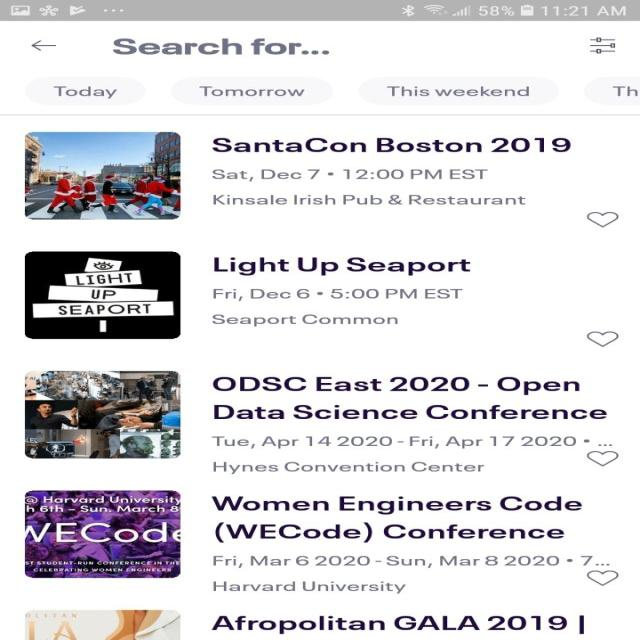Icon: (585, 450, 618, 467), (586, 211, 618, 228), (586, 569, 618, 586), (586, 331, 618, 347), (588, 37, 616, 54), (29, 38, 55, 50)
Image: (23, 131, 180, 220), (23, 251, 180, 339), (23, 490, 180, 577), (23, 371, 180, 458), (23, 609, 180, 640)
Text: (210, 496, 582, 542), (212, 376, 608, 419), (210, 615, 584, 634), (212, 555, 610, 568), (214, 256, 471, 276), (212, 138, 570, 152), (210, 436, 612, 448), (111, 37, 329, 54), (212, 169, 488, 182), (212, 461, 484, 474), (212, 194, 526, 205), (213, 288, 463, 301), (212, 581, 406, 593), (212, 314, 398, 326)
TextButton: (358, 77, 559, 106), (170, 77, 333, 106), (24, 76, 146, 105), (583, 76, 639, 105)
